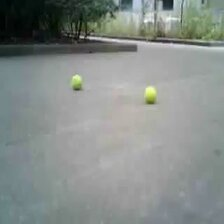tennis: (142, 85, 157, 103), (71, 73, 82, 88)
